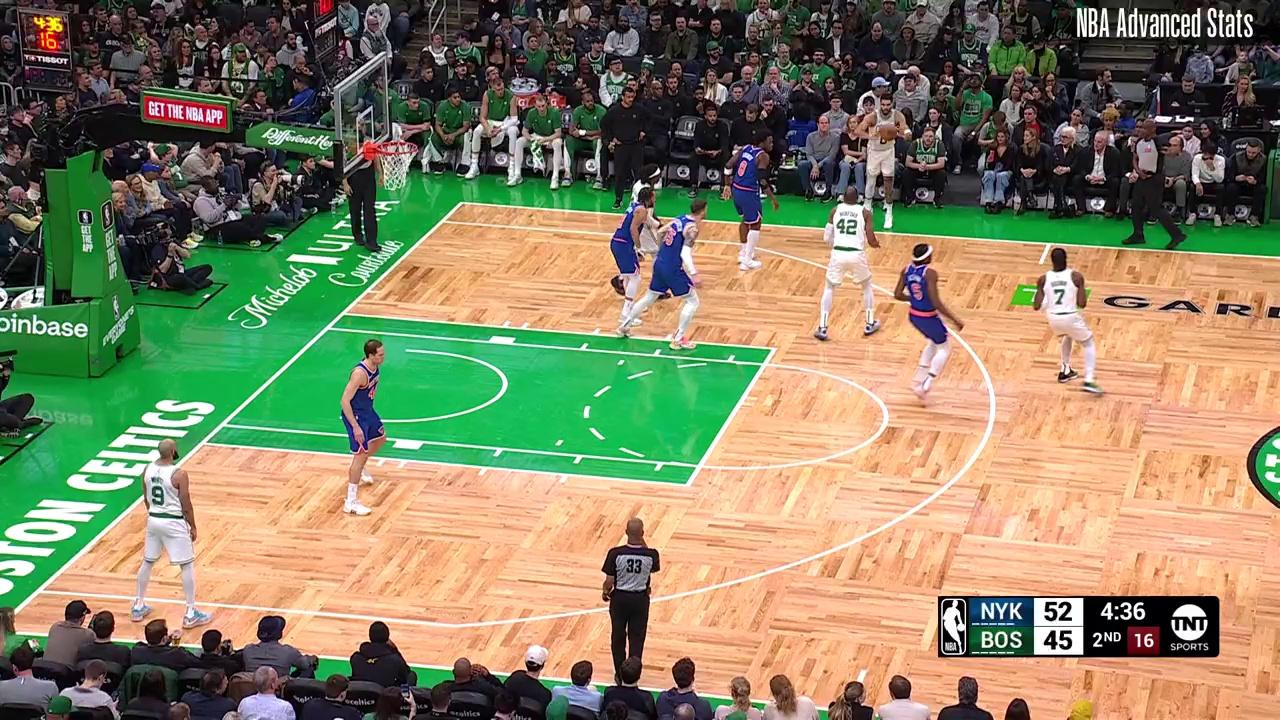3_dx: (436, 216, 449, 227)
3_sx: (32, 583, 48, 599)
b_dx: (456, 198, 467, 208)
free_adx: (768, 344, 780, 356)
free_asx: (681, 478, 695, 491)
free_bdx: (336, 306, 352, 321)
free_bsx: (197, 436, 211, 450)
mid_dx: (1035, 258, 1047, 269)
mid_sx: (858, 664, 870, 676)
referee: (604, 516, 663, 688), (1121, 116, 1187, 249)
team: (130, 438, 211, 625), (1036, 247, 1110, 399), (816, 188, 888, 336), (616, 160, 673, 297), (858, 89, 913, 229)
team1: (626, 200, 714, 357), (898, 242, 967, 409), (338, 338, 392, 524), (720, 130, 781, 267), (613, 189, 654, 326)
timer: (1094, 587, 1155, 623)
